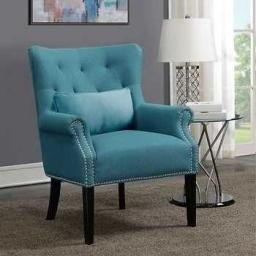Chair: (27, 45, 200, 245)
